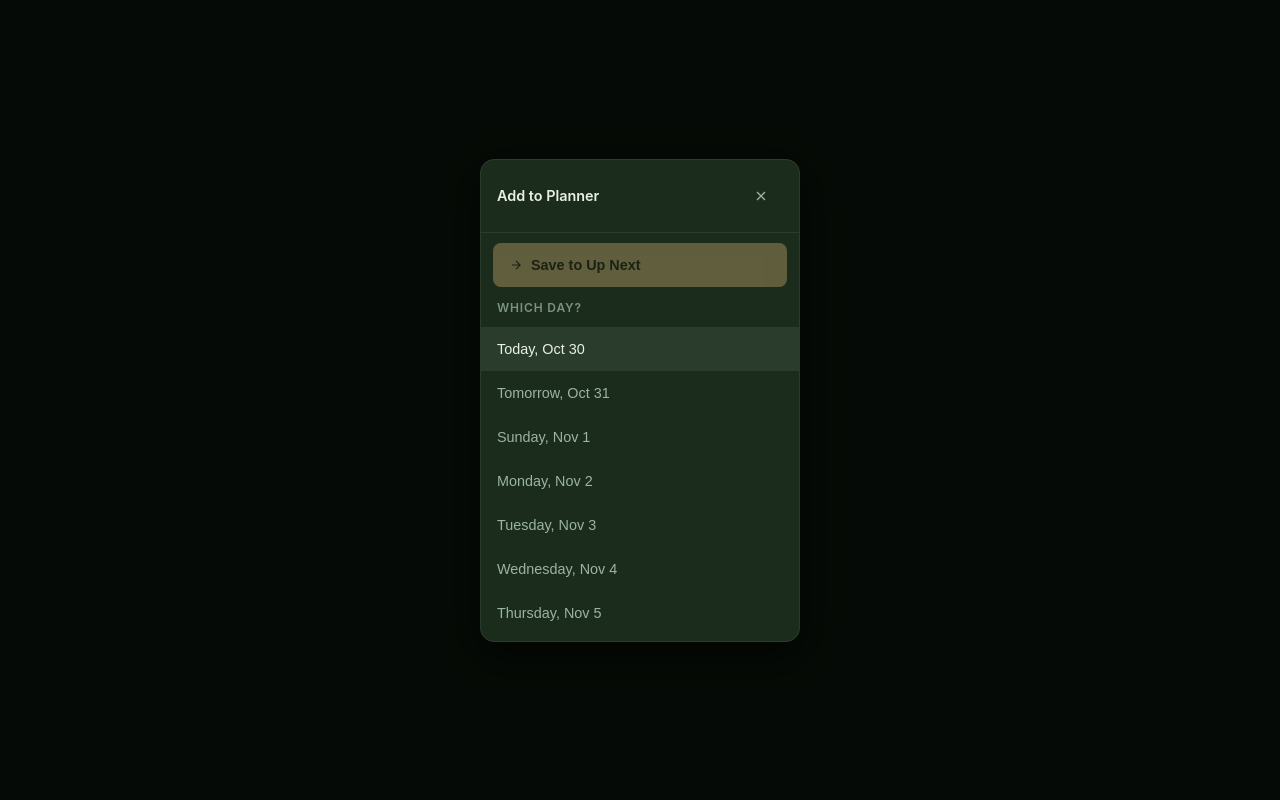
Scenario: DaySelector — transition to Step 2 › clicking a date advances to Step 2
The width and height of the screenshot is (1280, 800).
Step 1. Click the button with aria-label "Add to Today" → [541, 348], box [481,326,799,370]
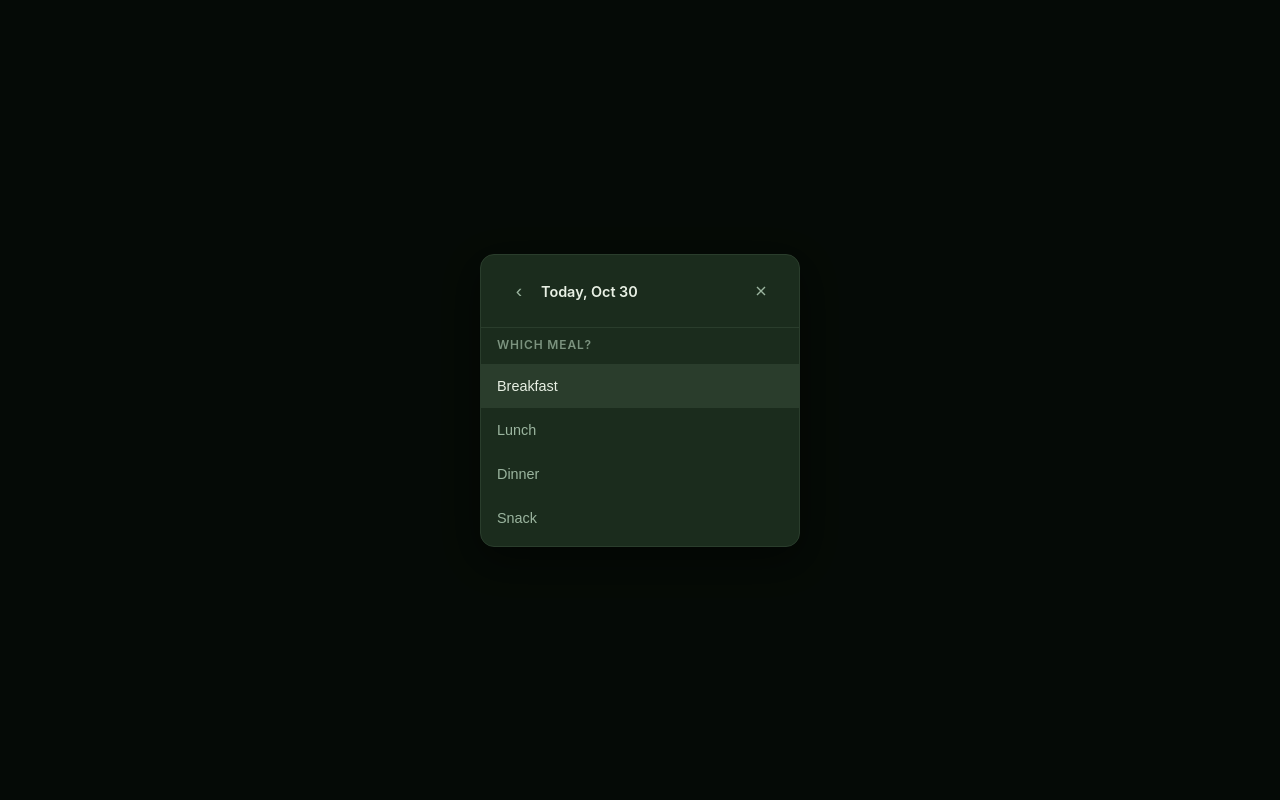
Check: the text "Which meal?" is shown, box [497,336,592,352]
